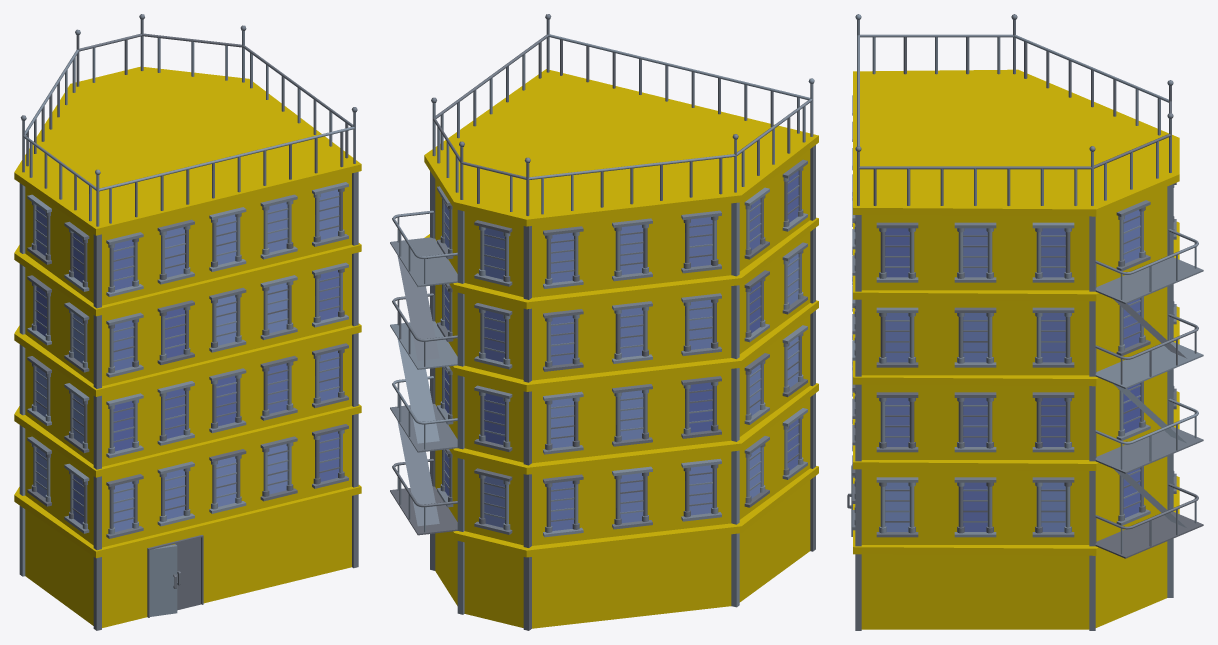
File: Building Procedural.007.fbx
3 views of the same model, side by side, from view 1: azimuth 30°, elevation 25°; view 2: azimuth 150°, elevation 25°; view 3: azimuth 270°, elevation 25° (orthographic). The views are drawn at different scales.
Parts seen in each view (by area): view 1: Building Procedural.007; view 2: Building Procedural.007; view 3: Building Procedural.007.
Part boxes in pixels (box(x1,y1,x2,y2)): Building Procedural.007: box(14, 14, 361, 630); Building Procedural.007: box(390, 14, 818, 630); Building Procedural.007: box(847, 14, 1203, 630).
Bounding box in the file's own units: 1136 × 1710 × 1142.
